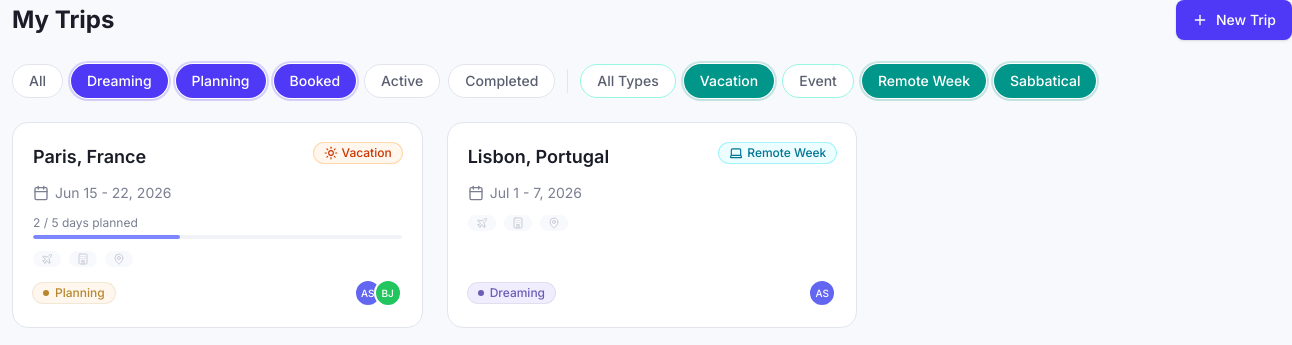
Test case: TripsPage › allows selecting multiple status filters simultaneously
Expected: the heading "Paris, France" is shown, [33,143,146,171]
Click "All" first to clear all pre-selected filters
Click the button "All". click: click(38, 81)
box: [12,64,63,98]
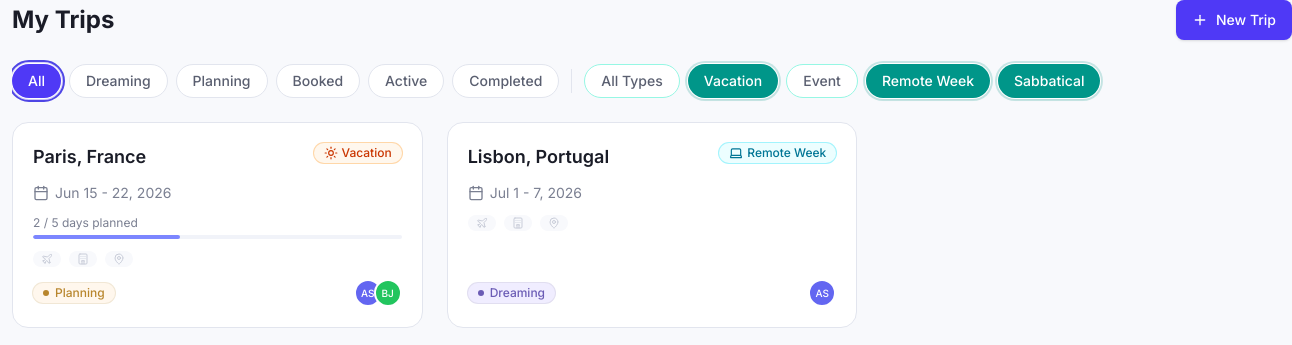
Select "Planning"
Click the button with test id "status-filter". click: click(222, 81)
box: [176,64,268,98]
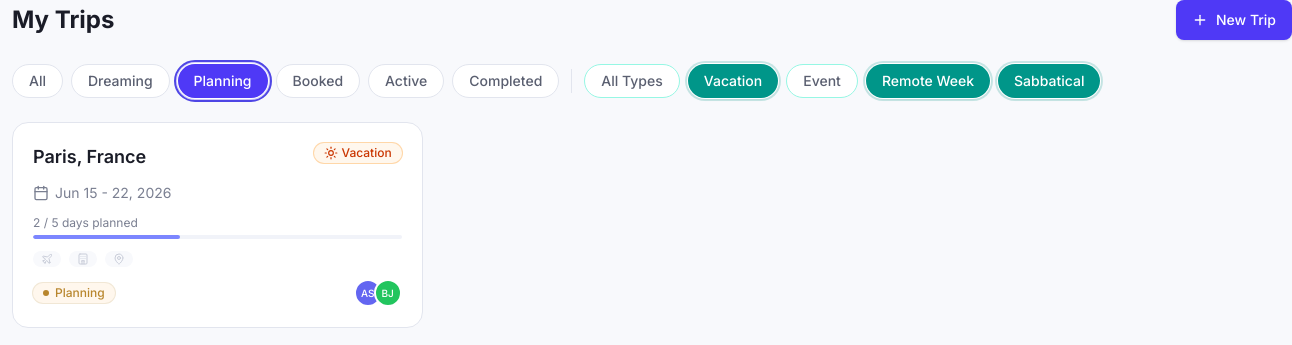
Expected: the heading "Paris, France" is shown, [33,143,146,171]
Now the link "Lisbon, Portugal" is gone
Also select "Dreaming"
Click the button "Dreaming". click: click(120, 81)
box: [71,64,170,98]
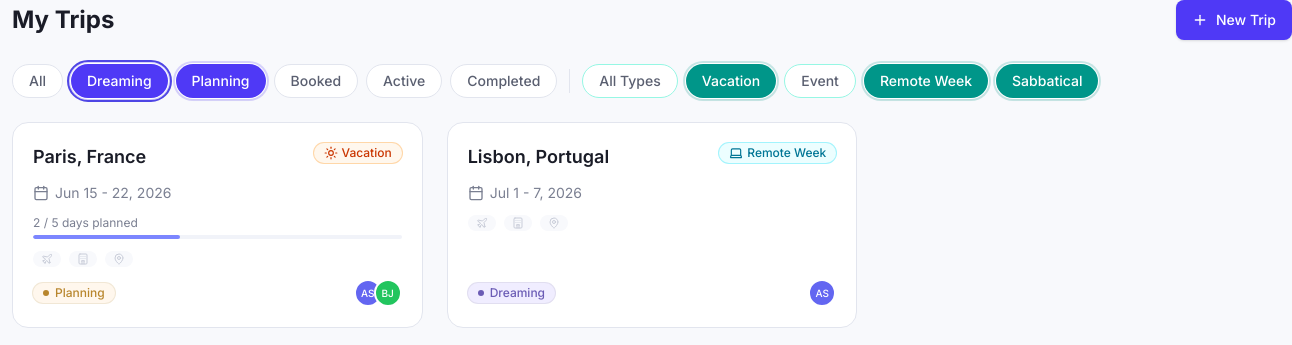
Expected: the heading "Paris, France" is shown, [33,143,146,171]
Now the heading "Lisbon, Portugal" is shown, box [468,143,609,171]
